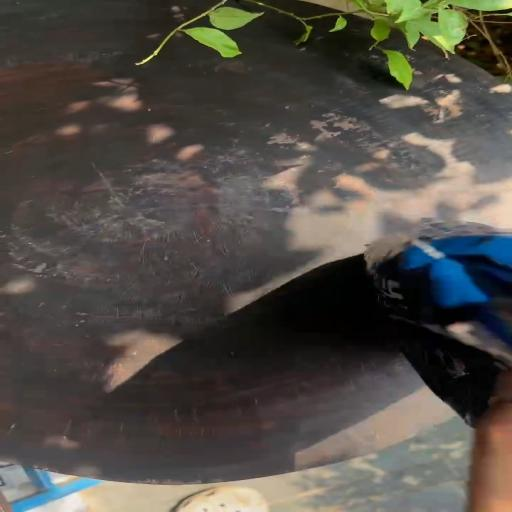cafe_hat: (364, 220, 511, 426)
